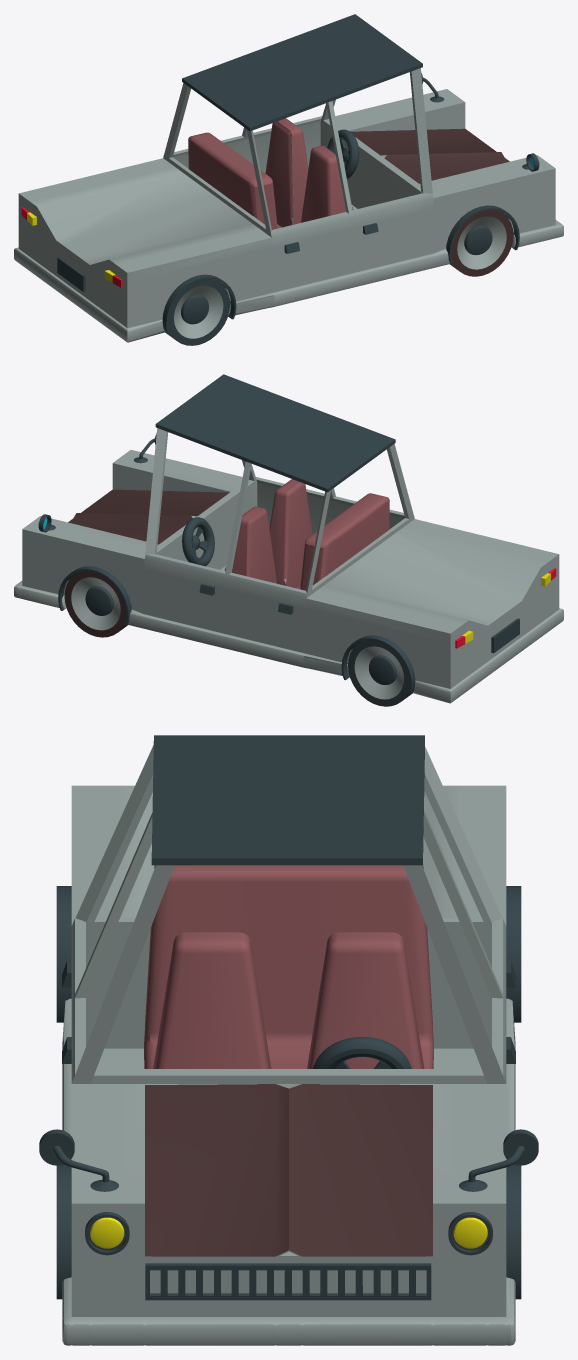
Rendered from Car4.fbx.
3 views of the same model, one above another, from view 1: azimuth 30°, elevation 25°; view 2: azimuth 150°, elevation 25°; view 3: azimuth 270°, elevation 25° (orthographic). The views are drawn at different scales.
Parts seen in each view (by area): view 1: Cube; view 2: Cube; view 3: Cube.
Part boxes in pixels (<box>): Cube: <box>14,14,563,345</box>; Cube: <box>14,374,563,706</box>; Cube: <box>39,735,538,1345</box>.
Bounding box in the file's own units: 468 × 209 × 230.
